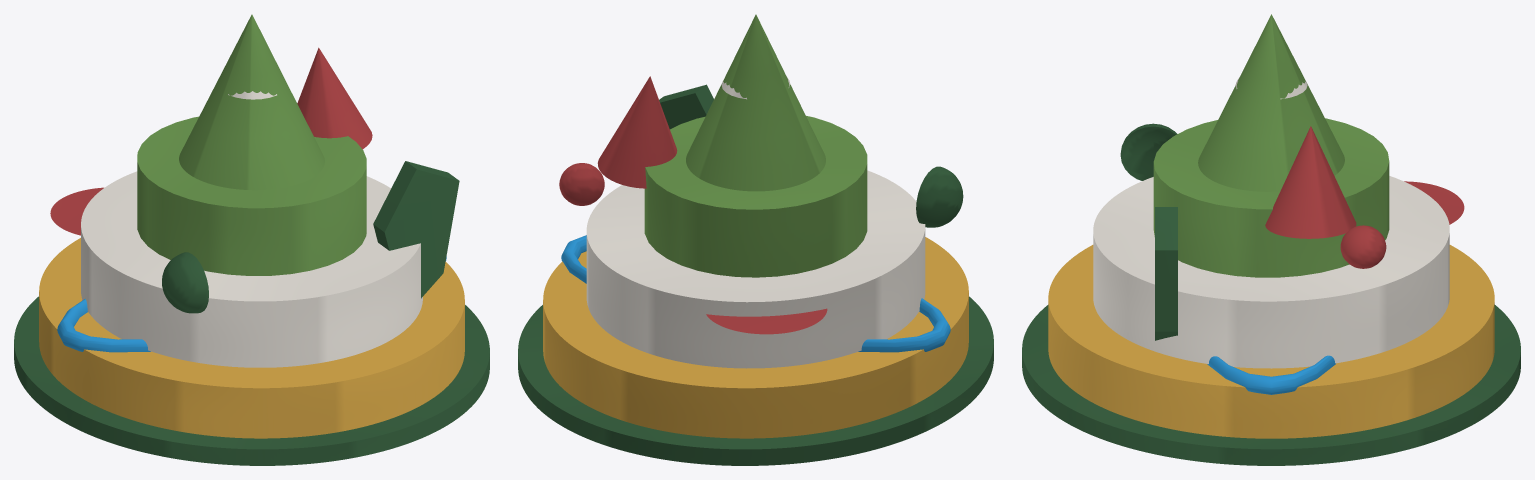
File: 0625_地貌图鉴_碛口镇黄河浮雕.glb
3 renders of one model, left to right at view 1: azimuth 30°, elevation 25°; view 2: azimuth 150°, elevation 25°; view 3: azimuth 270°, elevation 25°, orthographic.
Visible parts, largest first — view 1: card_0625; view 2: card_0625; view 3: card_0625.
Boxes of the visible parts, box(x1,y1,x2,y2) form: card_0625: box(14, 14, 489, 465); card_0625: box(518, 14, 993, 465); card_0625: box(1022, 14, 1520, 465).
Size of the model in its own units: 1.22 by 1 by 1.28.
